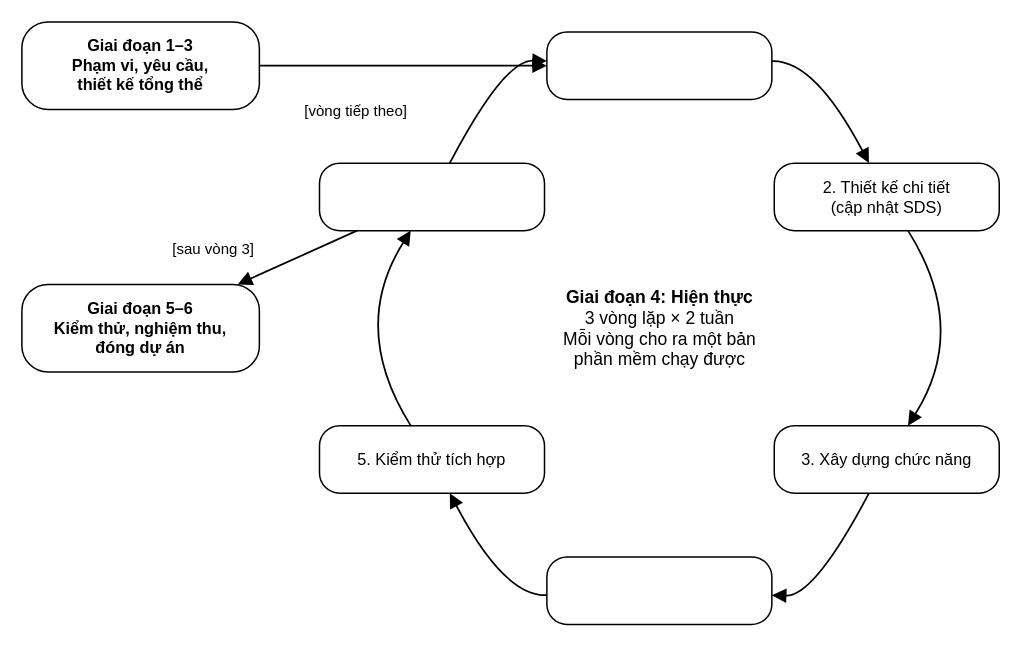
The diagram is 1023 pixels wide and 648 high, and some of its shapes have lost their labels. The centre of each missing label's shape, as x and y in pixels:
1. Lập kế hoạch vòng lặp: point (659, 65)
4. Kiểm thử đơn vị và rà soát mã: point (659, 590)
6. Demo với giảng viên, nhận góp ý: point (431, 196)
